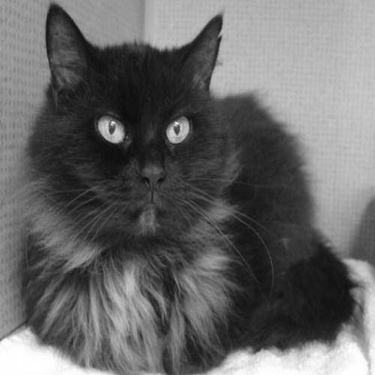cat: (22, 2, 351, 367)
